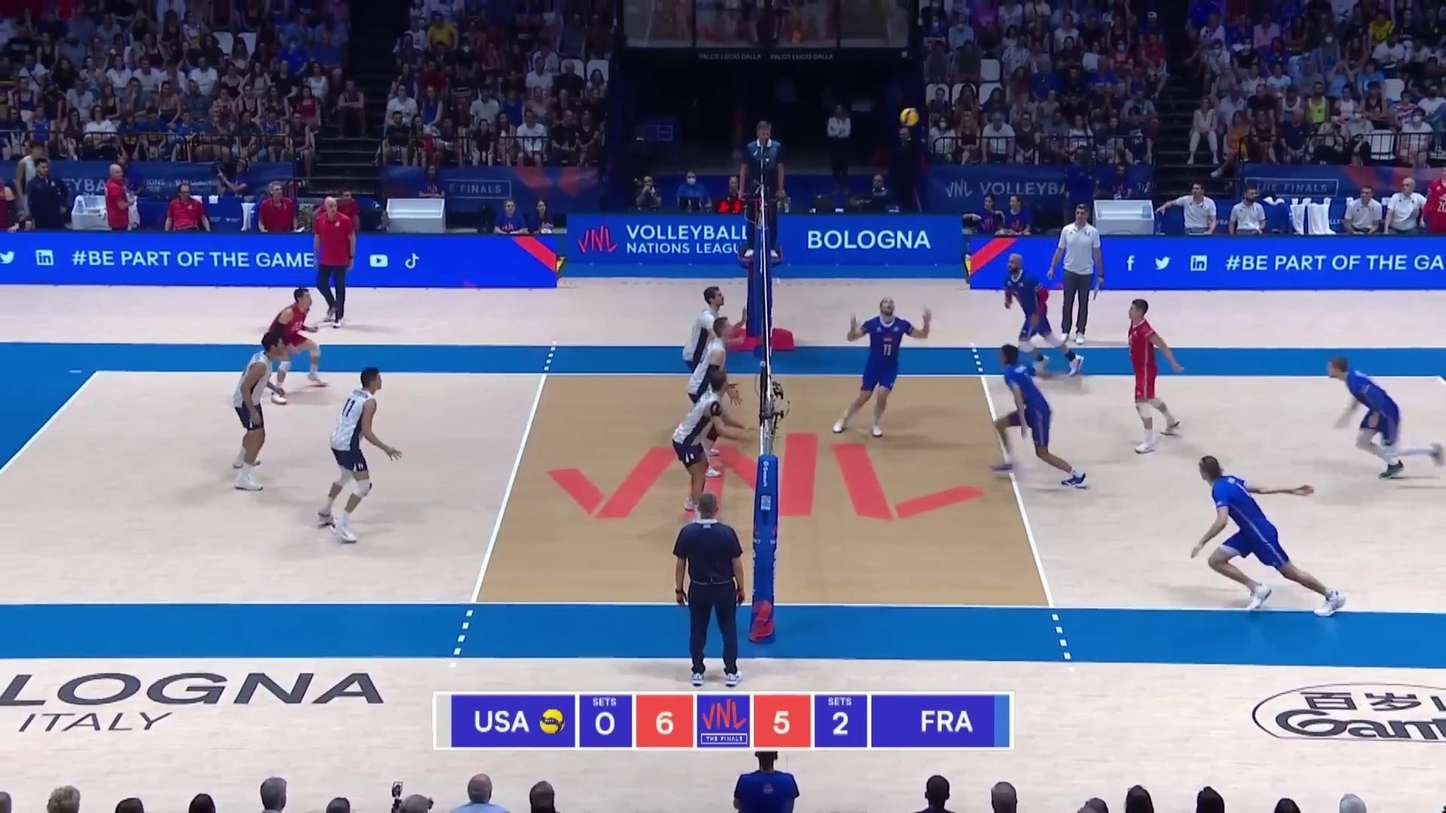player: (1190, 456, 1348, 613), (313, 368, 402, 544), (1324, 359, 1445, 479), (831, 296, 931, 436), (992, 344, 1086, 488), (1000, 253, 1085, 376), (225, 336, 286, 493), (1124, 300, 1183, 449), (672, 374, 733, 512), (260, 288, 327, 405), (688, 318, 734, 475), (684, 287, 734, 431)
refree: (674, 495, 746, 686), (737, 123, 788, 267)
